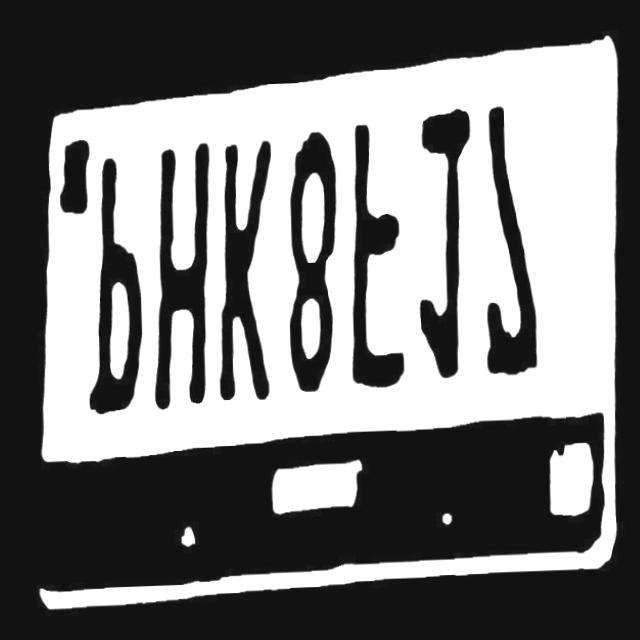1: (411, 100, 478, 387)
7: (476, 101, 540, 393)
8: (281, 124, 341, 401)
f: (339, 119, 410, 402)
h: (144, 140, 217, 429)
k: (210, 132, 278, 404)
p: (78, 140, 146, 423)
